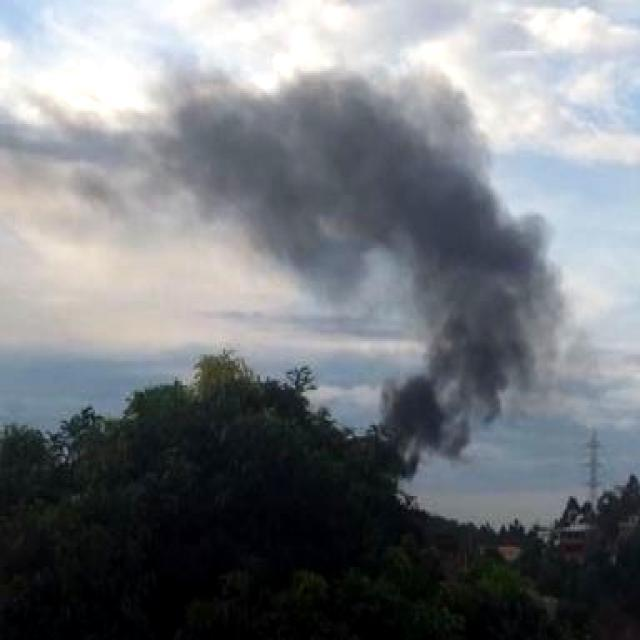Smoke: (183, 28, 546, 394), (364, 300, 502, 476)
